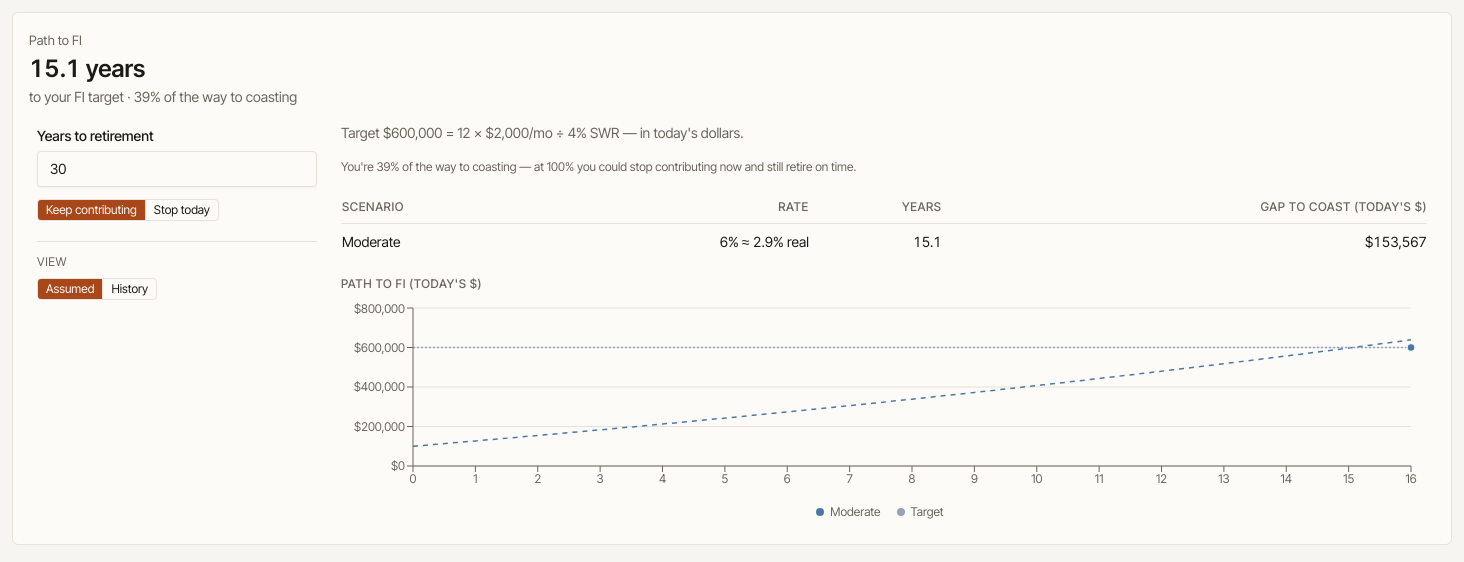
PathToFiCard — degradation (⚑F5, CH-5/CH-6) › H=130 (STOP) renders the CH-5 line, no fan, no holds
The image size is (1464, 562).
Click the button "Stop today": (181, 210) [145,200,218,220]
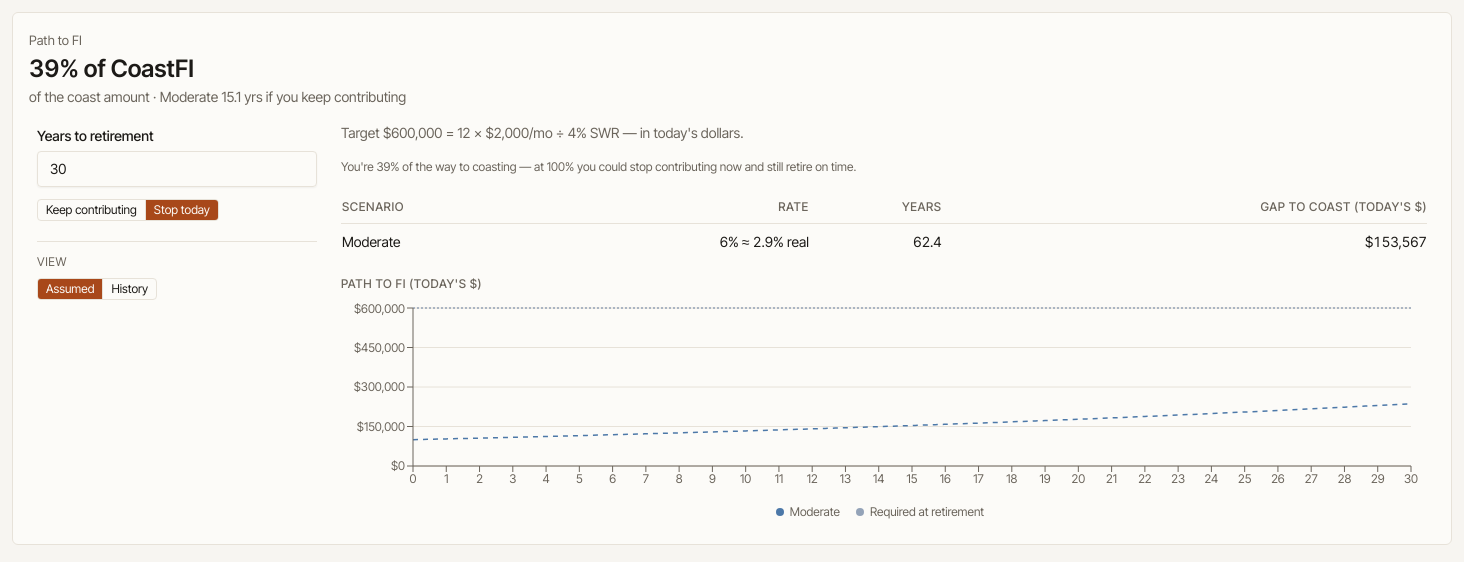
Replace the text in the number field labelled "Years to retirement" with "130": (177, 168) [37,150,317,186]
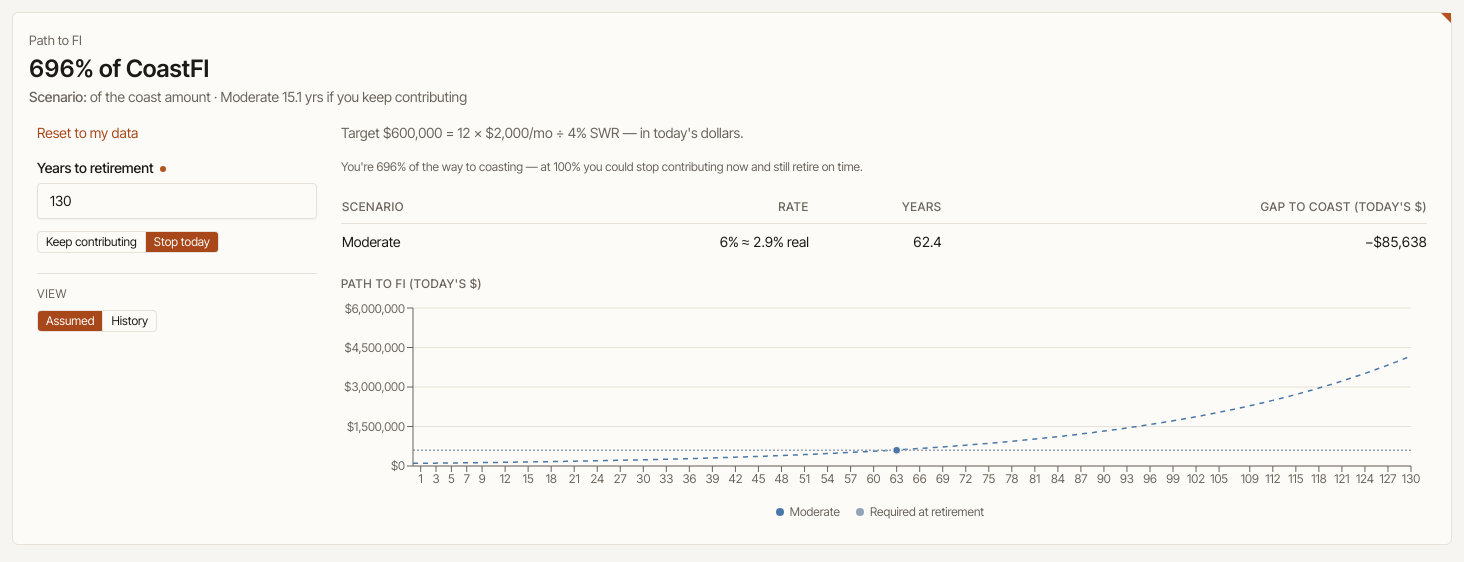
Click the button "History": (129, 320) [102,310,156,330]
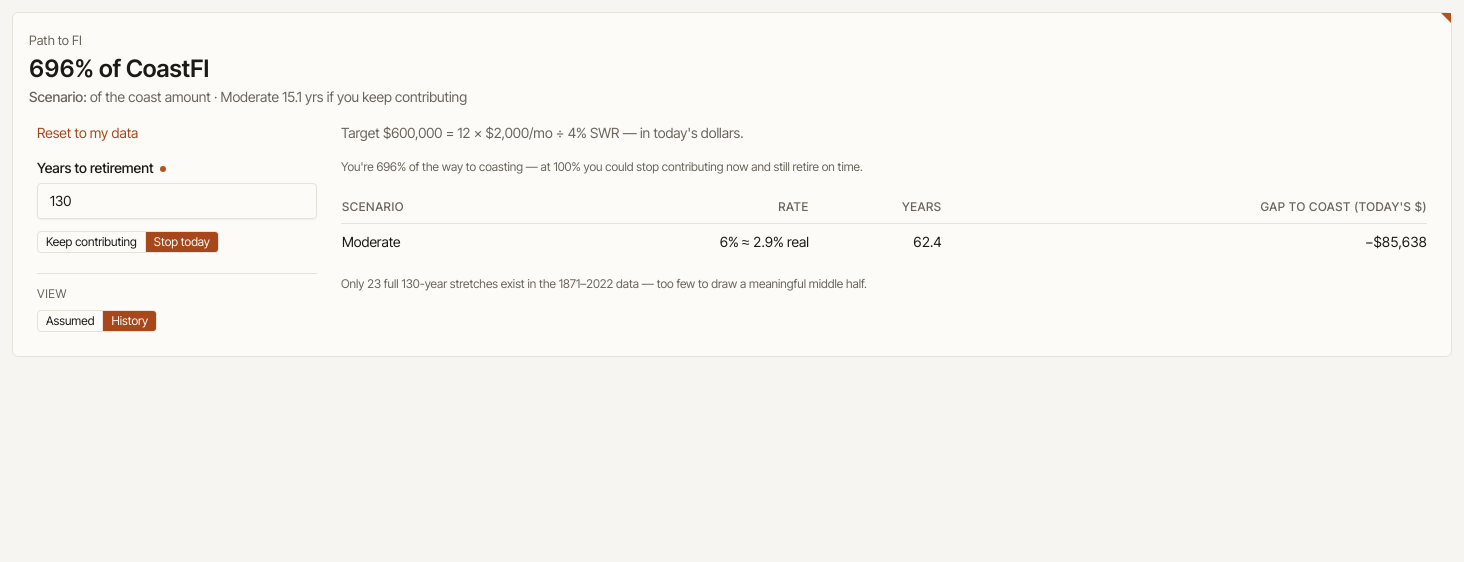
Expected: the text with test id "path-to-fi-history-degraded" shows "Only 23 full 130-year stretches exist in the 1871–2022 data — too few to draw a meaningful middle half.", [341,276,867,290]
